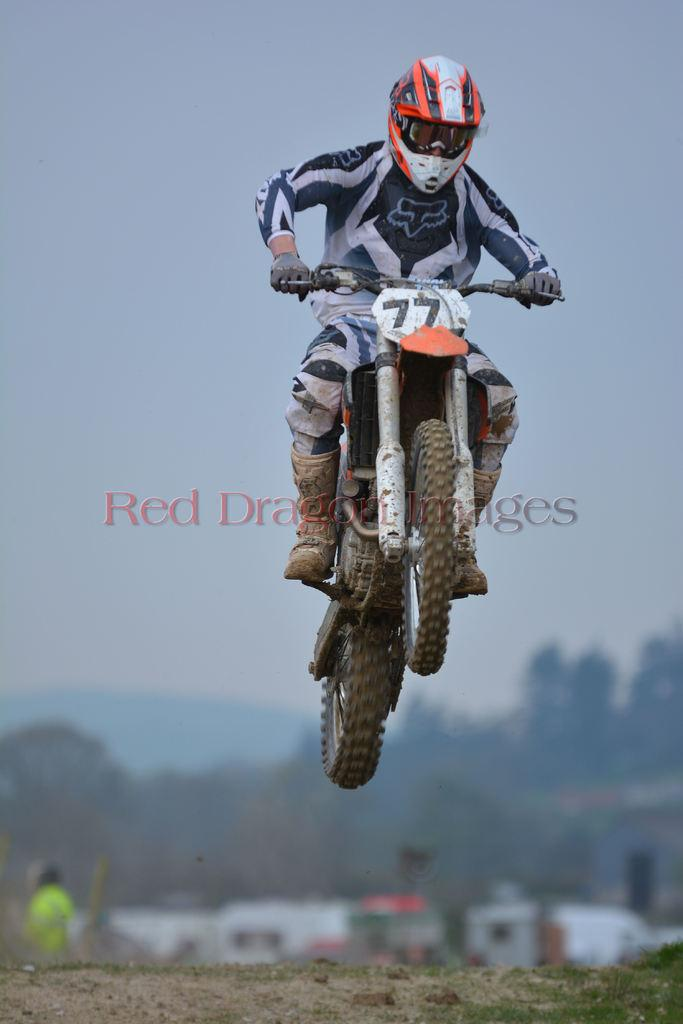helmet: (388, 55, 486, 195)
